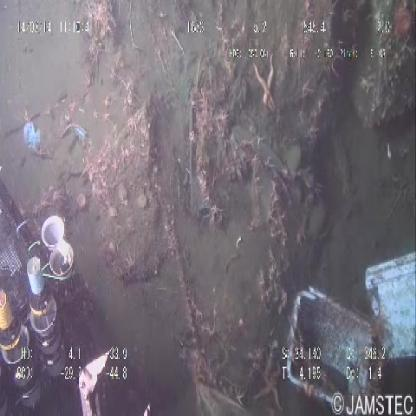Rov: (1, 140, 158, 416)
Rác: (269, 237, 416, 415)
